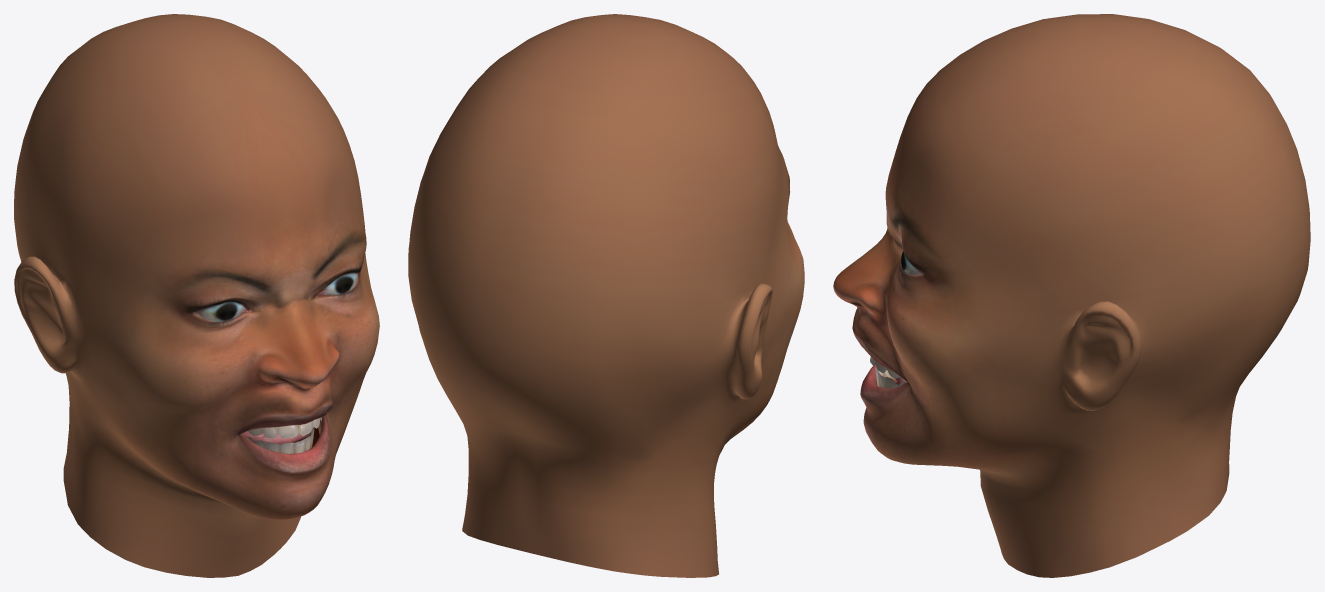
File: v332_obj_ExpressionAnger.obj
3 renders of one model, left to right at view 1: azimuth 30°, elevation 25°; view 2: azimuth 150°, elevation 25°; view 3: azimuth 270°, elevation 25°, orthographic. The views are drawn at different scales.
Visible parts, largest first — view 1: HeadHires, Mouth; view 2: HeadHires; view 3: HeadHires.
Boxes of the visible parts, x1,y1,x2,y2 form: HeadHires: [14, 14, 379, 577]; Mouth: [241, 417, 322, 453]; HeadHires: [408, 14, 804, 577]; HeadHires: [833, 14, 1310, 577].
Bounding box in the file's own units: 187 × 282 × 233.
